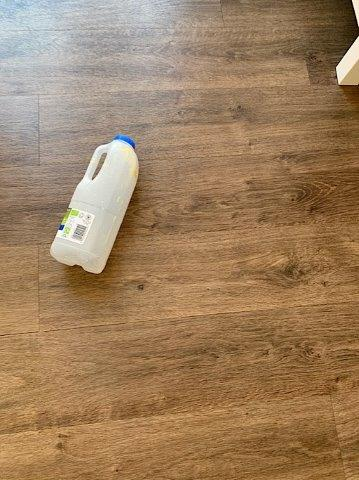botolplastik: (51, 137, 138, 271)
